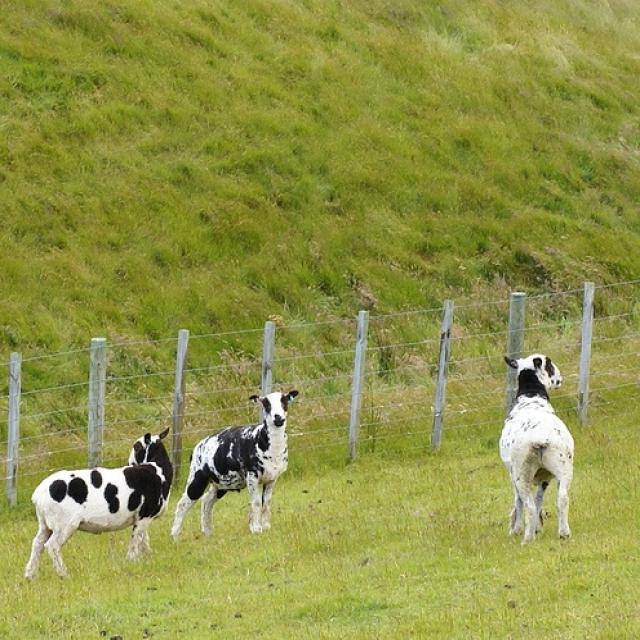sheep: (24, 428, 174, 579), (174, 390, 302, 541), (500, 355, 574, 543)
